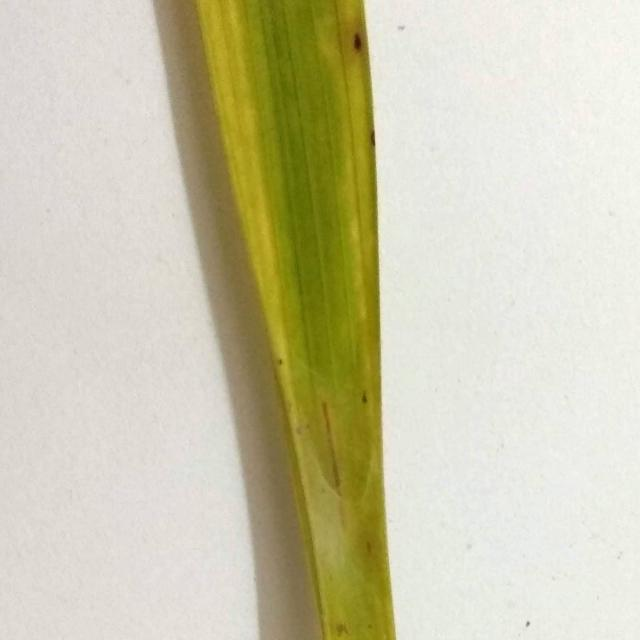Brown spot: (315, 386, 347, 544), (361, 111, 378, 166), (348, 26, 368, 66), (359, 372, 372, 412)
